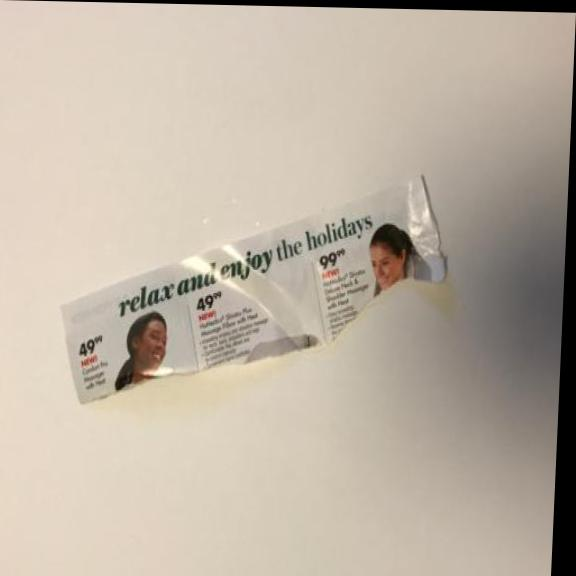Kertas: (52, 162, 465, 426)
